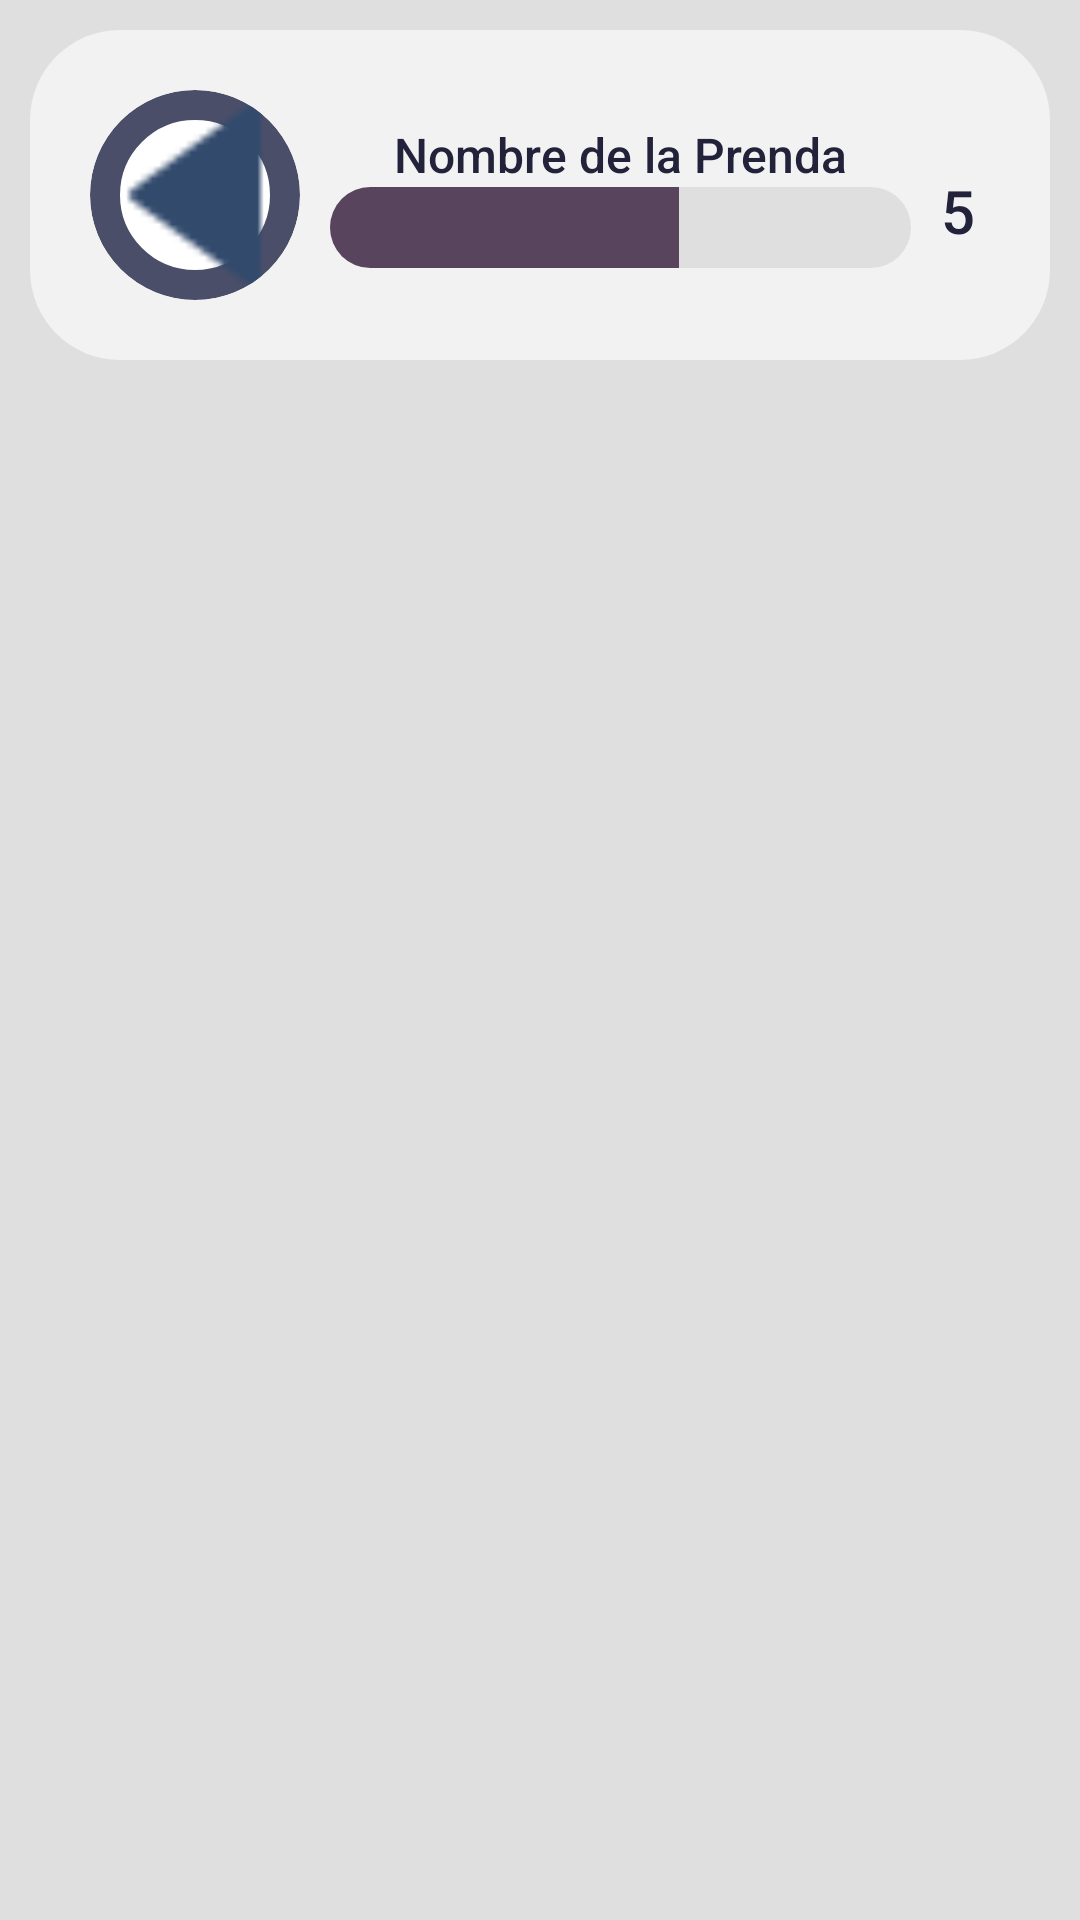

Named icons in this screenshot (1080 x 1920) and their bounding boxes, bbox=(x1, y1, x2, y2):
leftarrow: bbox=(90, 90, 300, 300)
